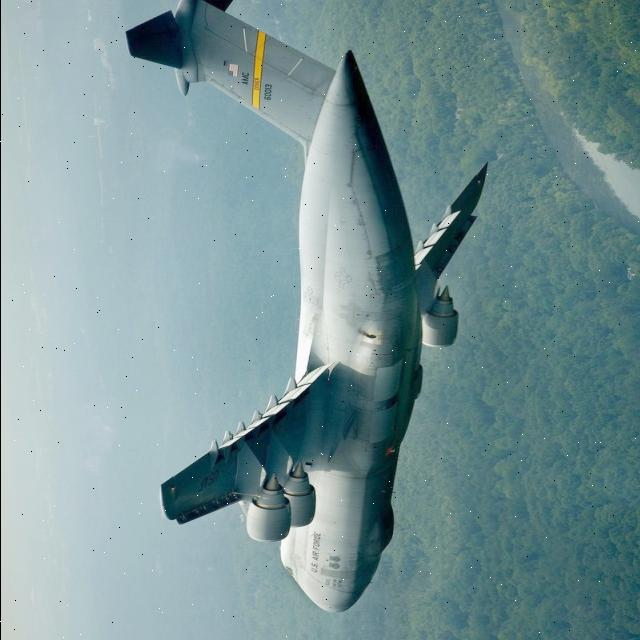C5: (101, 0, 502, 627)
